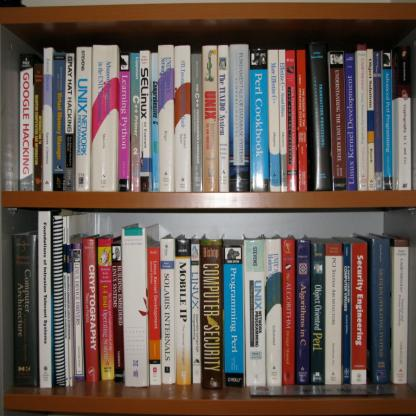book: (12, 209, 410, 390), (20, 42, 411, 194), (265, 239, 282, 388)
